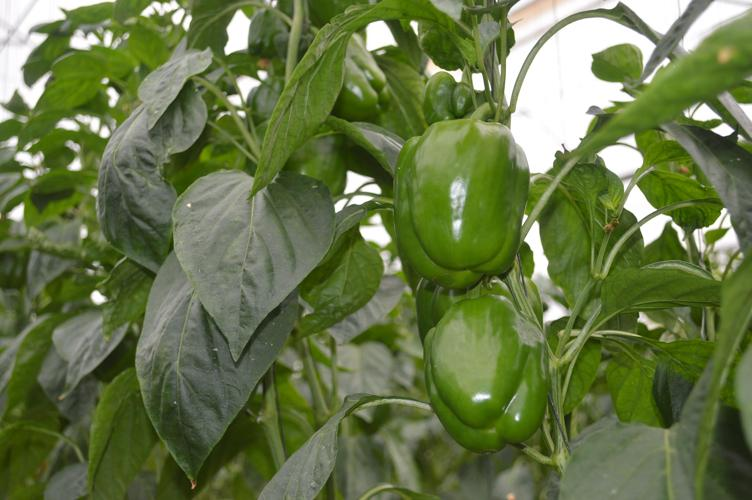BellPepper: (385, 124, 531, 282), (418, 301, 545, 442), (312, 38, 383, 116), (407, 276, 505, 330), (276, 123, 348, 194), (418, 72, 470, 120)
